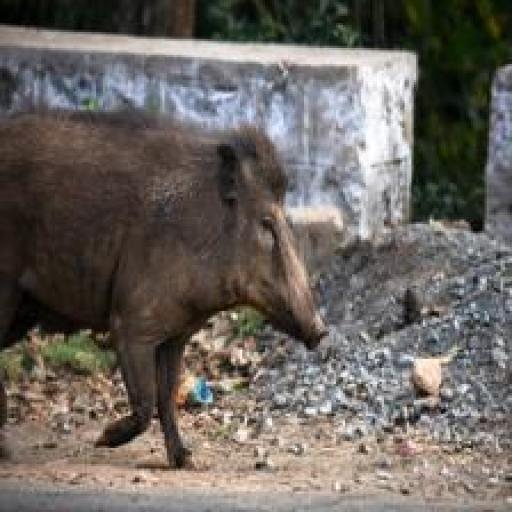Pig: (0, 103, 327, 482)
